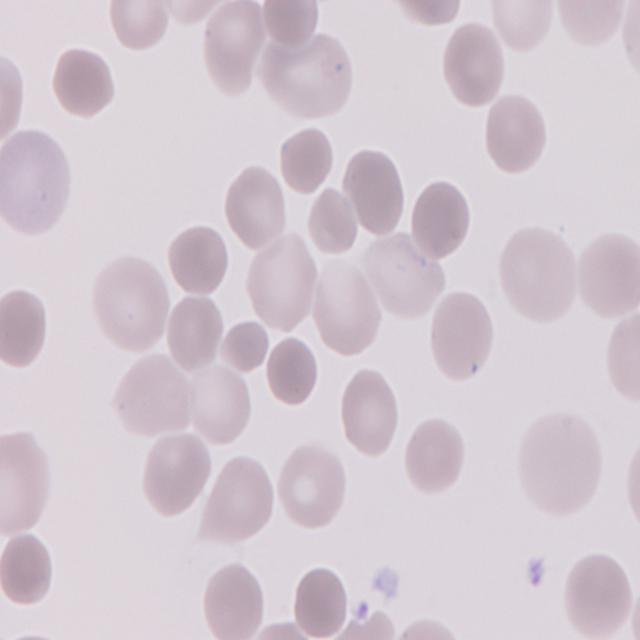RBC: (515, 410, 604, 521), (264, 26, 354, 124), (90, 254, 170, 358), (498, 224, 580, 324), (0, 128, 73, 236), (248, 235, 320, 333), (312, 260, 381, 360), (205, 452, 278, 543), (562, 547, 633, 640), (431, 288, 498, 386), (274, 442, 348, 530), (573, 224, 640, 318), (140, 433, 212, 519), (439, 17, 507, 108), (342, 147, 410, 236), (337, 368, 400, 460), (0, 430, 53, 538), (225, 164, 290, 252), (483, 92, 550, 174), (202, 557, 267, 640), (402, 416, 466, 499), (168, 290, 226, 372), (484, 0, 556, 57), (0, 284, 49, 366), (105, 0, 172, 57), (556, 0, 628, 51), (603, 309, 640, 403), (0, 52, 26, 143), (396, 613, 470, 640), (624, 426, 640, 543), (320, 618, 394, 640), (622, 0, 640, 81), (629, 573, 639, 640)
Spherocyte: (411, 175, 476, 258), (168, 222, 233, 298), (290, 562, 351, 638), (53, 48, 115, 121), (278, 124, 335, 200), (0, 530, 55, 608), (263, 338, 318, 408), (308, 187, 358, 255)
